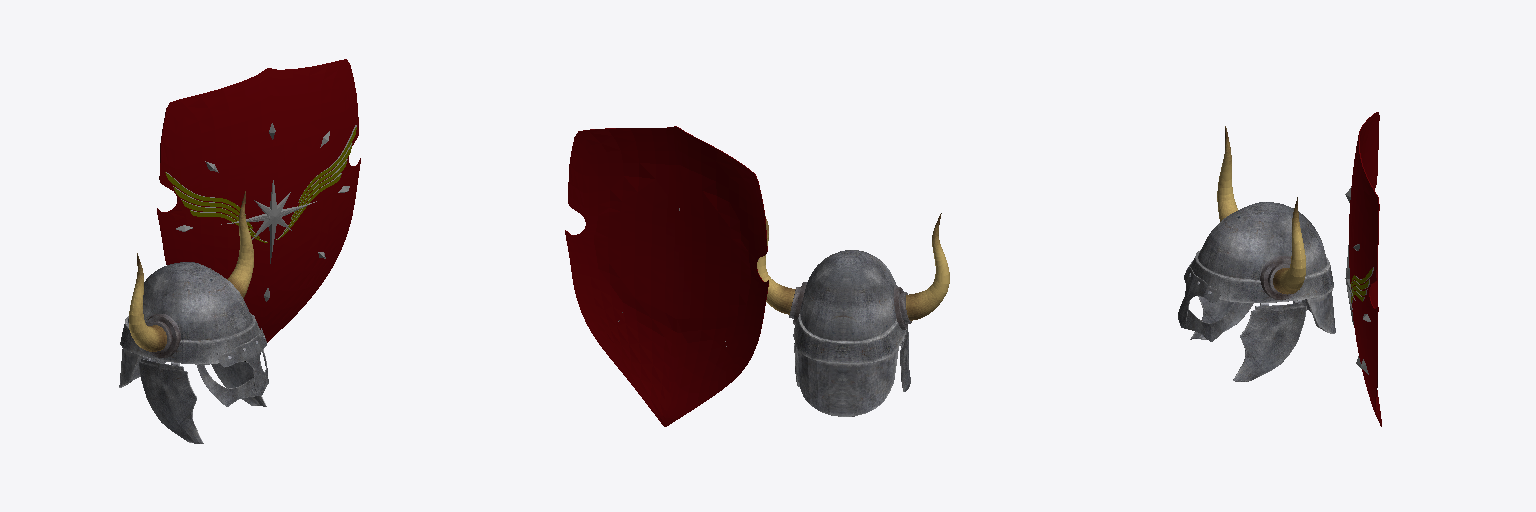
3 renders of one model, left to right at view 1: azimuth 30°, elevation 25°; view 2: azimuth 150°, elevation 25°; view 3: azimuth 270°, elevation 25°, orthographic.
Parts seen in each view (by area): view 1: b_Plane.009, Pre_Horn.003_Circle.004; view 2: b_Plane.009, Pre_Horn.003_Circle.004; view 3: Pre_Horn.003_Circle.004, b_Plane.009.
Boxes of the visible parts, <box> form: b_Plane.009: <box>157,59,360,342</box>; Pre_Horn.003_Circle.004: <box>119,191,268,443</box>; b_Plane.009: <box>565,126,768,426</box>; Pre_Horn.003_Circle.004: <box>757,213,949,416</box>; Pre_Horn.003_Circle.004: <box>1178,126,1335,381</box>; b_Plane.009: <box>1345,112,1381,426</box>.
Bounding box in the file's own units: 13.36 × 12.15 × 7.7.
4 materials, 1 textured.